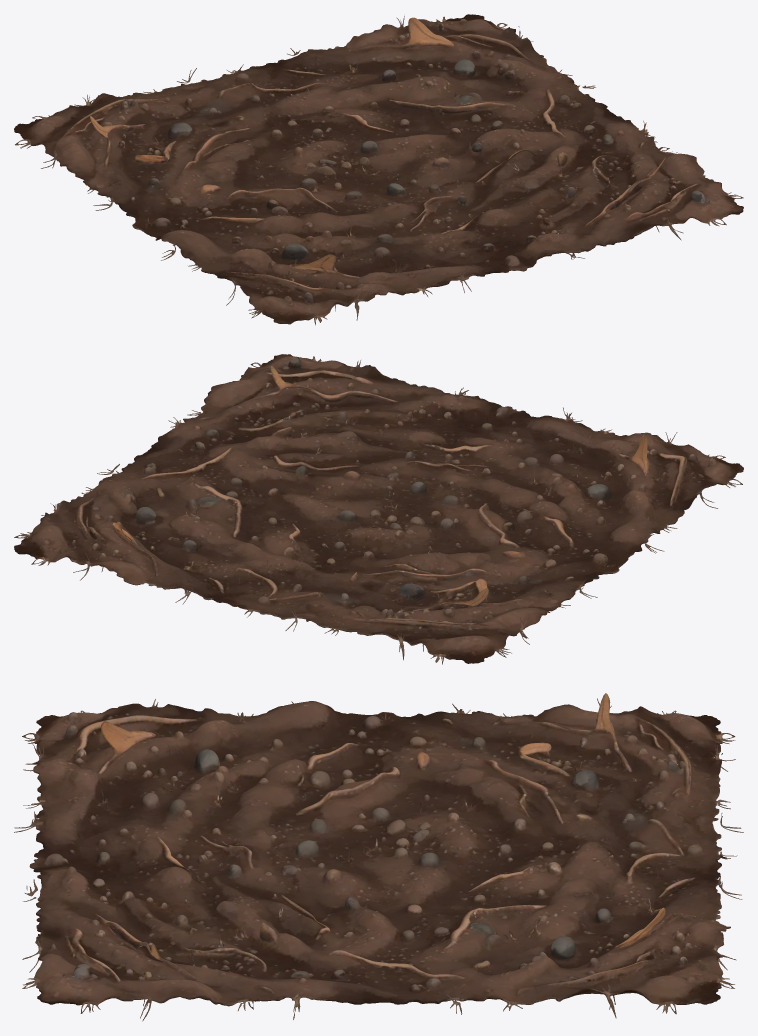
The model's file is ground.glb.
3 views of the same model, one above another, from view 1: azimuth 30°, elevation 25°; view 2: azimuth 150°, elevation 25°; view 3: azimuth 270°, elevation 25° (orthographic). The views are drawn at different scales.
Bounding box in the file's own units: 1.88 × 0.1902 × 1.89.
1 material, 1 textured.
